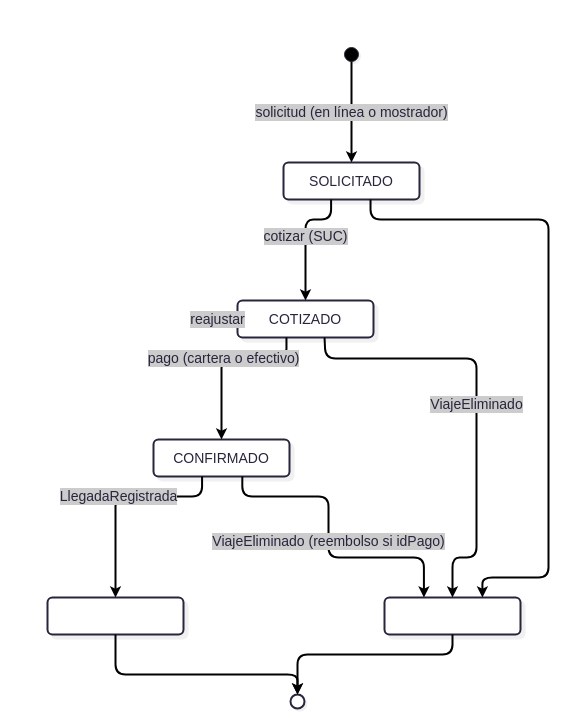
Image size: 573x728. Some labels were removed from this diagram. Each missing label, with the centre of its shape:
"CANCELADO" belongs at point 454,617.
"FINALIZADO" belongs at point 117,617.
